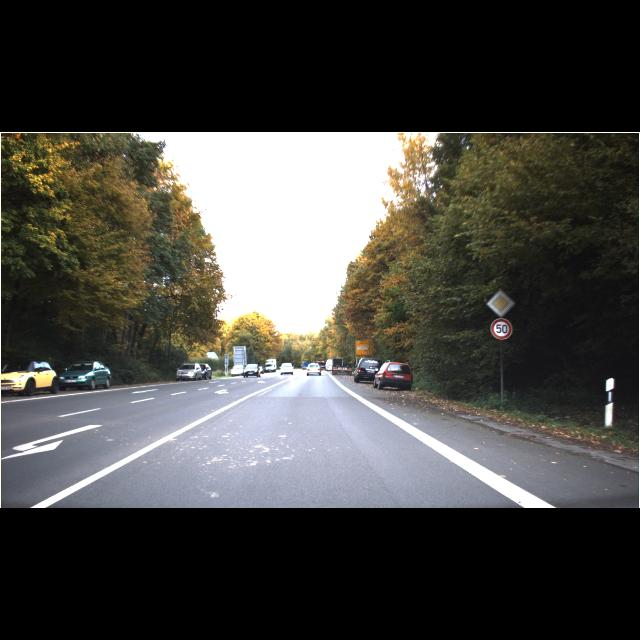other: (486, 290, 516, 318)
prohibitory: (491, 318, 512, 339)
